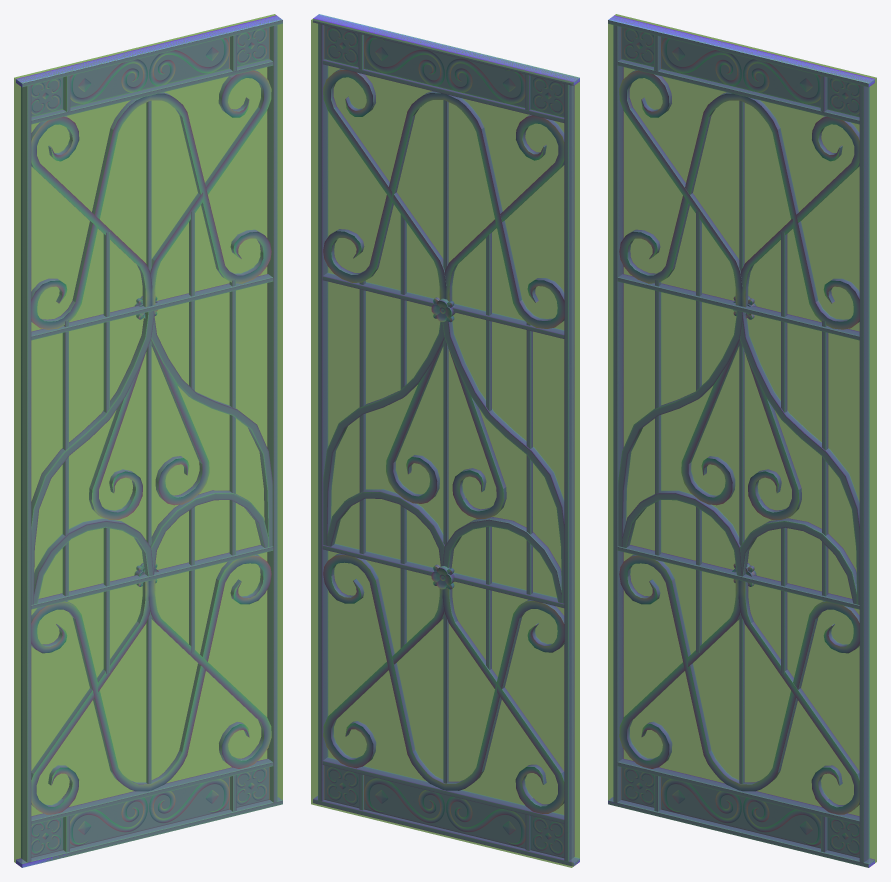
The model's file is DoorCage_01.fbx.
3 views of the same model, side by side, from view 1: azimuth 30°, elevation 25°; view 2: azimuth 150°, elevation 25°; view 3: azimuth 330°, elevation 25° (orthographic).
Parts seen in each view (by area): view 1: DoorCage_01_col_01, DoorCage_01_LOD0; view 2: DoorCage_01_col_01, DoorCage_01_LOD0; view 3: DoorCage_01_col_01, DoorCage_01_LOD0.
Part boxes in pixels (x1,y1,x2,y2): DoorCage_01_col_01: (14, 14, 282, 863); DoorCage_01_LOD0: (16, 15, 282, 867); DoorCage_01_col_01: (311, 15, 579, 867); DoorCage_01_LOD0: (313, 14, 579, 866); DoorCage_01_col_01: (608, 14, 876, 867); DoorCage_01_LOD0: (608, 15, 874, 867).
Size of what is drawn, in the model's own units: 103 by 295 by 5.55.
2 materials, 1 textured.
